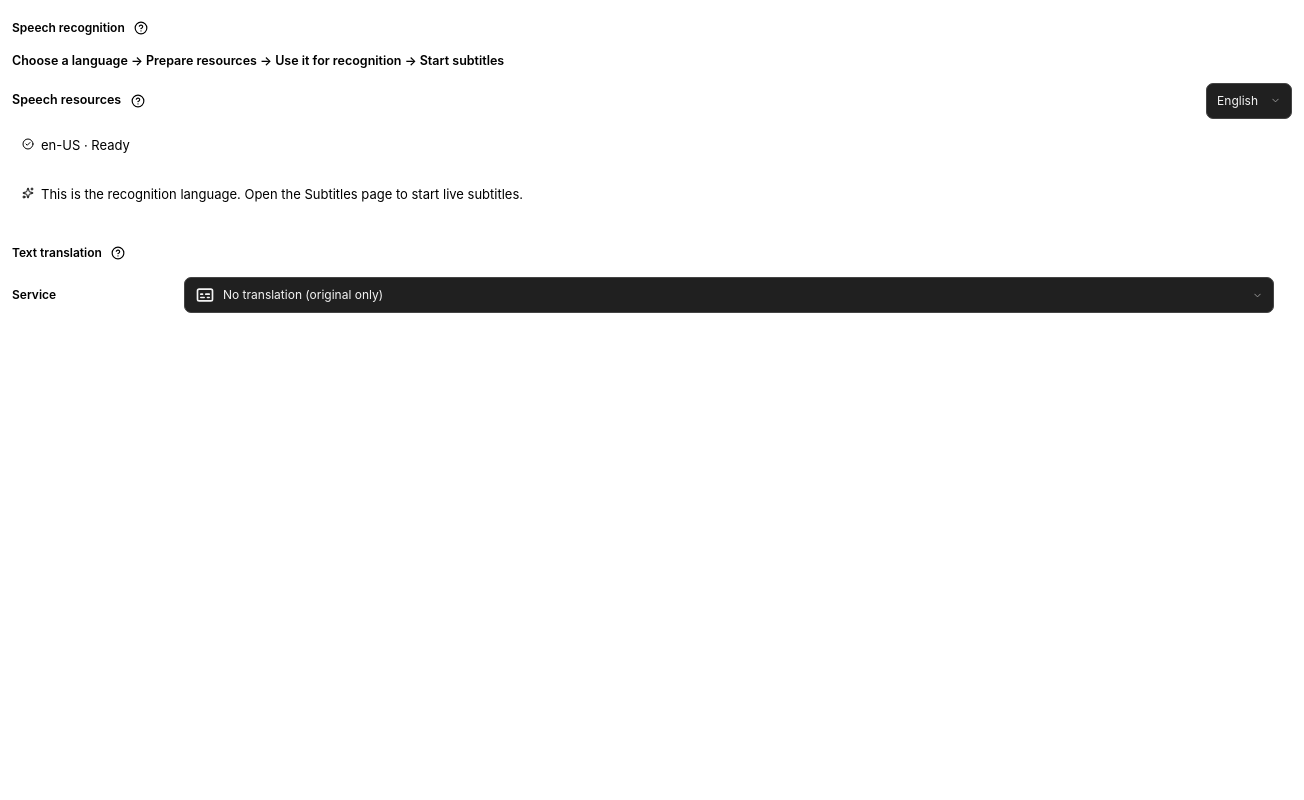
Test: shows only safe retryable feedback for private-native-error
Click the dropdown labelled "English".
click(1249, 101)  # box [1206, 83, 1292, 119]
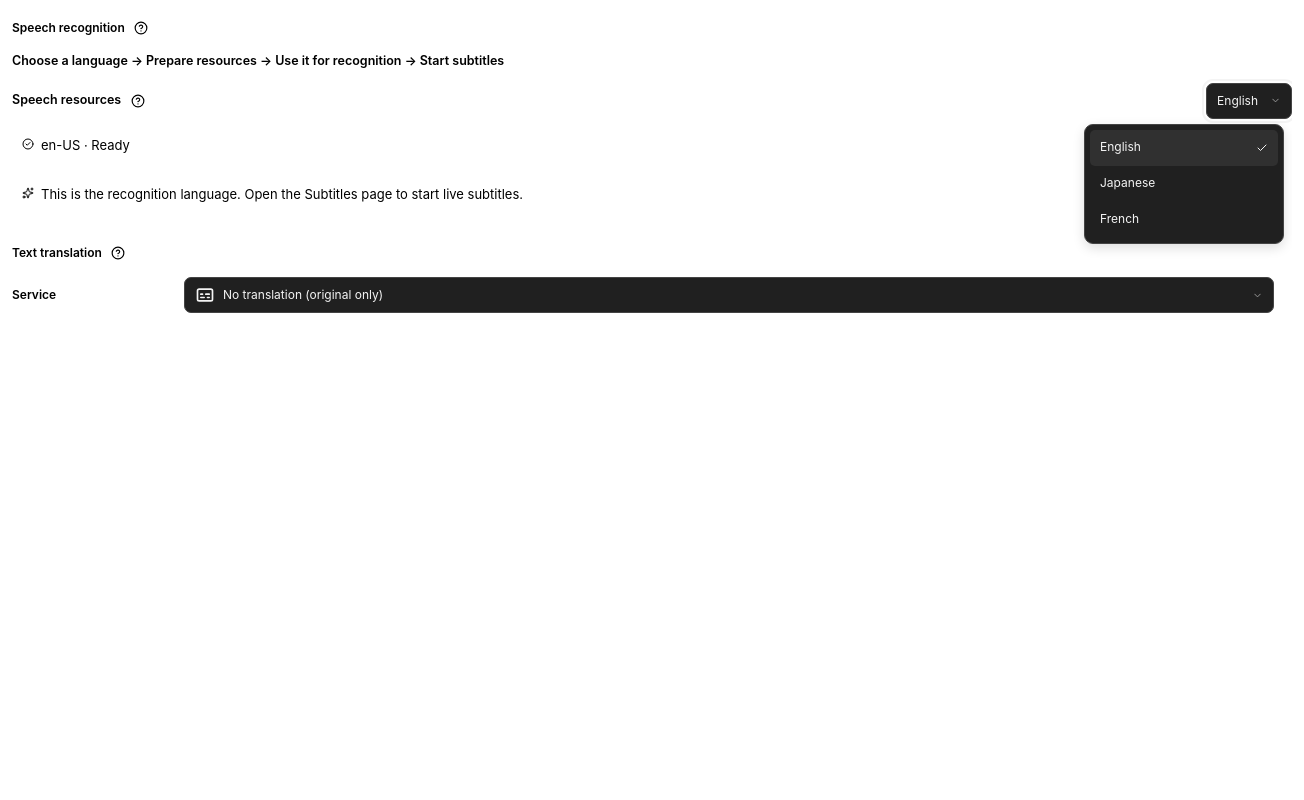
Click the option "Japanese".
click(1128, 183)  # box [1100, 175, 1155, 190]
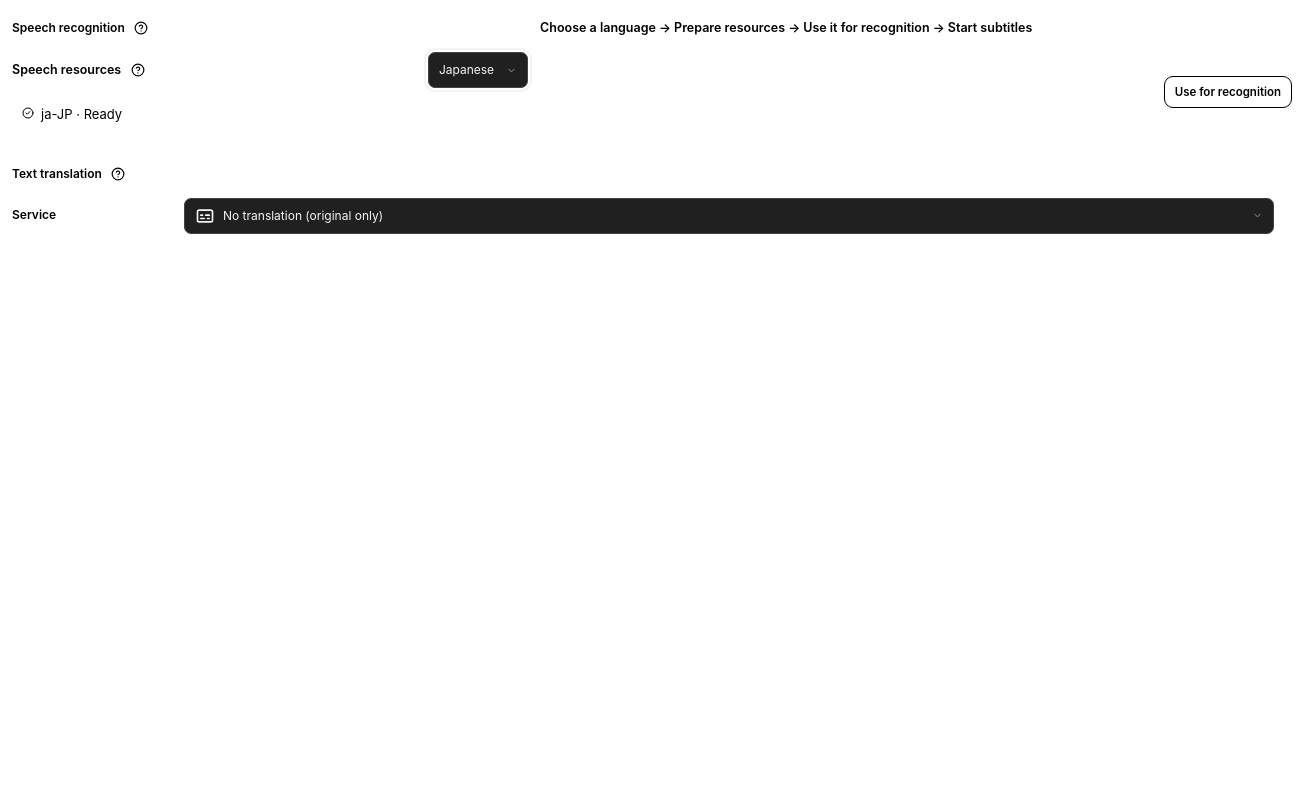
Click the button "Use for recognition".
click(1228, 92)  # box [1164, 76, 1292, 108]
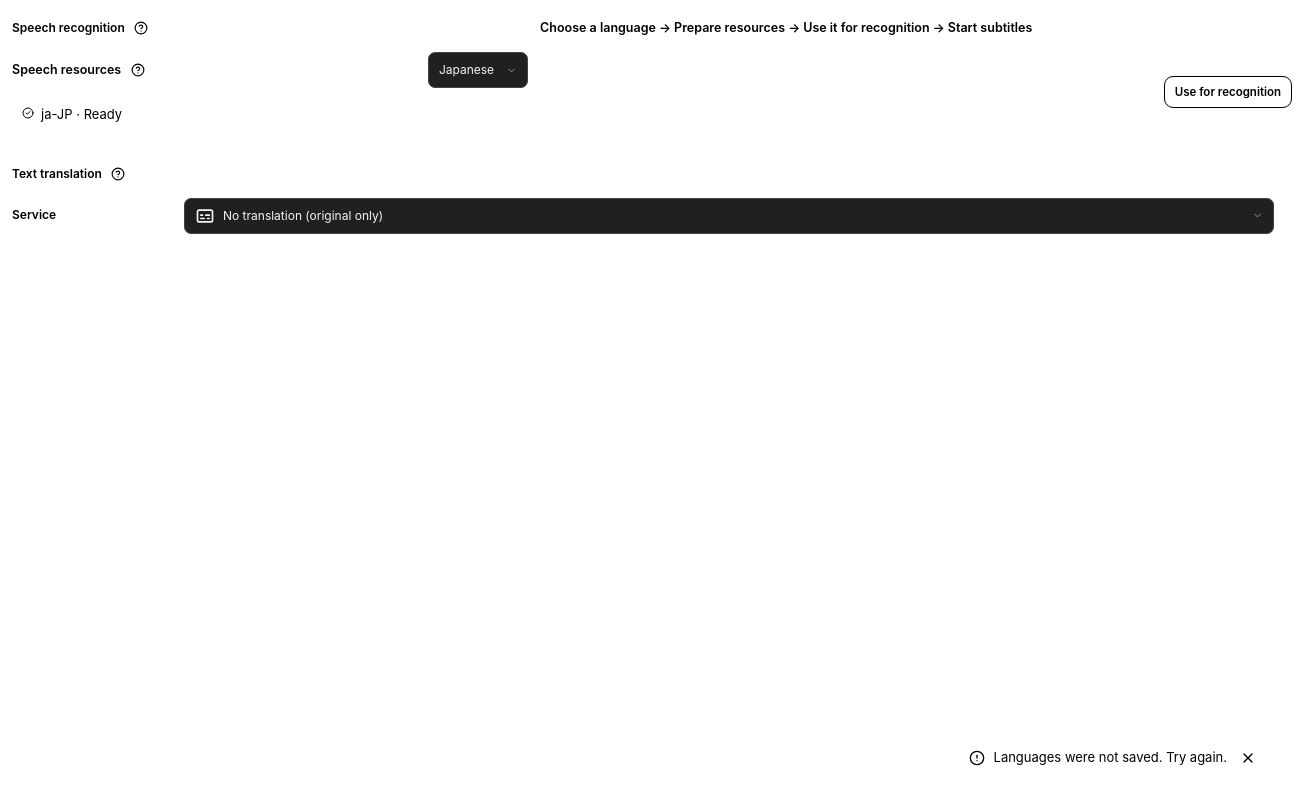
Check: the button "Use for recognition" is enabled, box [1164, 76, 1292, 108]
Check: the text "Languages were not saved. Try again." is shown, box [994, 748, 1227, 768]
